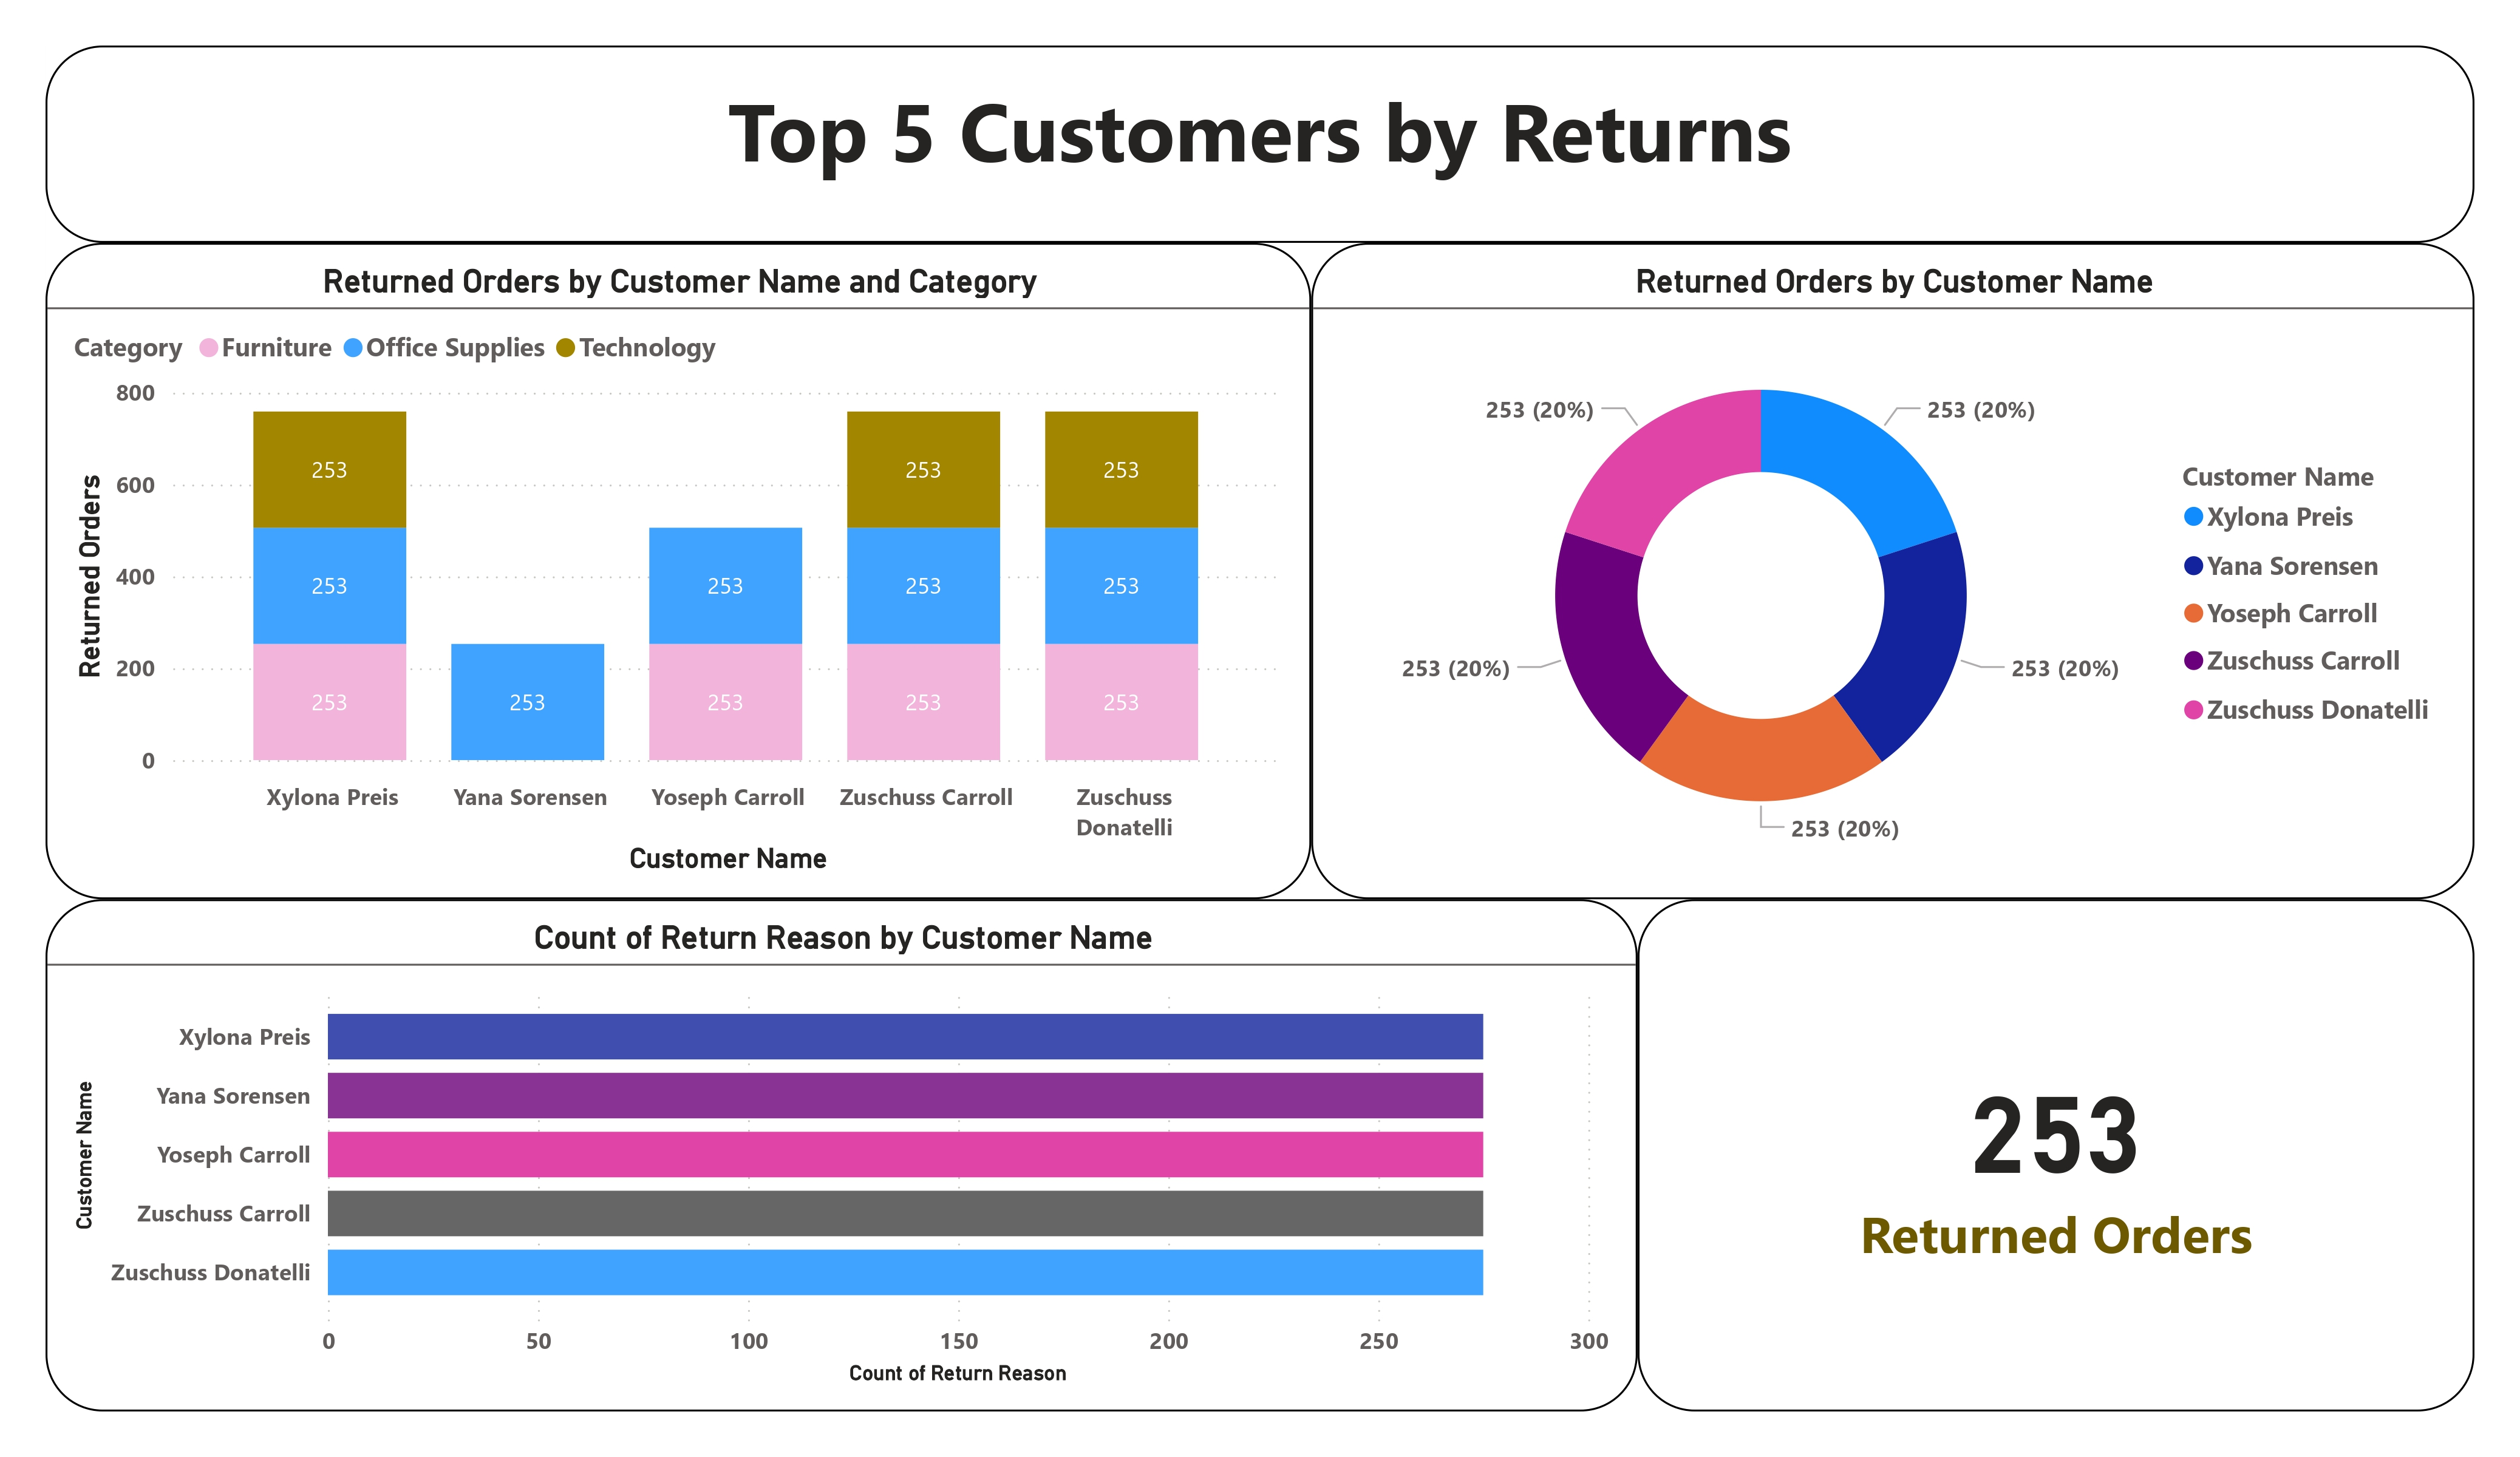

The page's visual inventory and layout, read from the dashboard file:
{"tool":"powerbi","page":{"name":"Top 5 Customers by Returns","canvas":[1280,720],"ordinal":2},"visuals":[{"type":"card","fields":{"Values":["returns_new.Returned Orders"]},"box":[838.6,450,441.4,270],"z":0},{"type":"clusteredBarChart","fields":{"Y":["CountNonNull(returns_new.Return Reason)"],"Category":["Append1.Customer Name"]},"box":[0,450,838.6,270],"z":1000},{"type":"donutChart","fields":{"Category":["Append1.Customer Name"],"Y":["returns_new.Returned Orders"]},"box":[667.1,104.3,612.9,345.7],"z":2000},{"type":"columnChart","fields":{"Series":["Append1.Category"],"Category":["Append1.Customer Name"],"Y":["returns_new.Returned Orders"]},"box":[0,104.3,667.1,345.7],"z":3000},{"type":"actionButton","box":[0,0,100,40],"z":4000},{"type":"textbox","box":[0,0,1280,104.3],"z":5000}]}

Visuals, with their boxes on the page's 1280x720 design canvas (x1, y1, x2, y2). These are canvas units, not pixel positions in the 2520x1457 screenshot, which may show the page scaled, cropped or inside an application window:
card - returns_new.Returned Orders: <region>839, 450, 1280, 720</region>
clusteredBarChart - CountNonNull(returns_new.Return Reason) x Append1.Customer Name: <region>0, 450, 839, 720</region>
donutChart - Append1.Customer Name x returns_new.Returned Orders: <region>667, 104, 1280, 450</region>
columnChart - Append1.Category x Append1.Customer Name: <region>0, 104, 667, 450</region>
actionButton: <region>0, 0, 100, 40</region>
textbox: <region>0, 0, 1280, 104</region>
